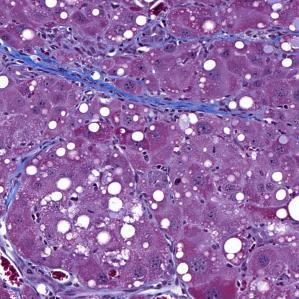fibrosis: (41, 55, 208, 115)
